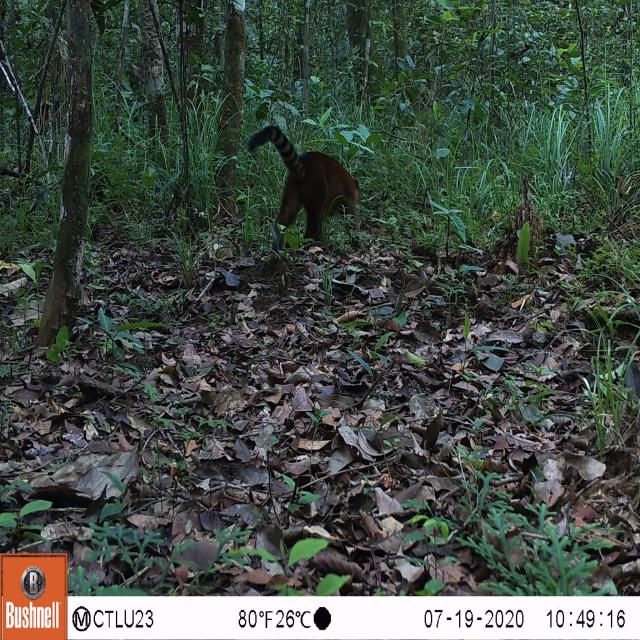South American Coati: (236, 100, 382, 287)
